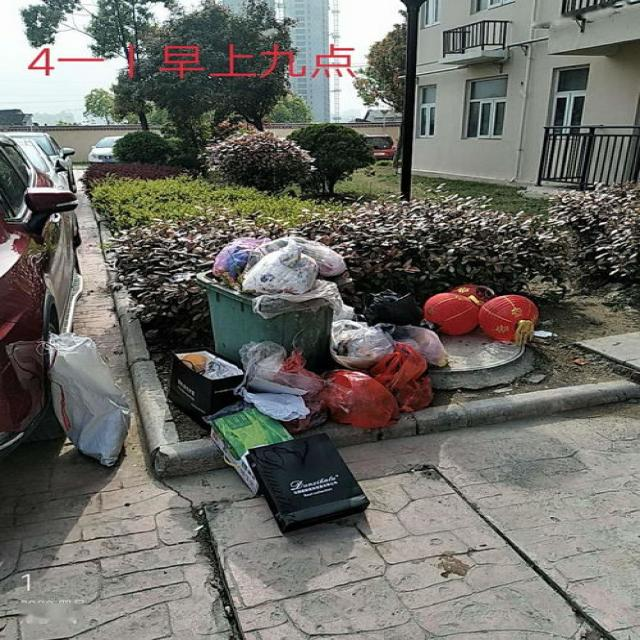garbage: (163, 281, 538, 533), (45, 331, 127, 467)
overflow: (193, 235, 344, 371)
